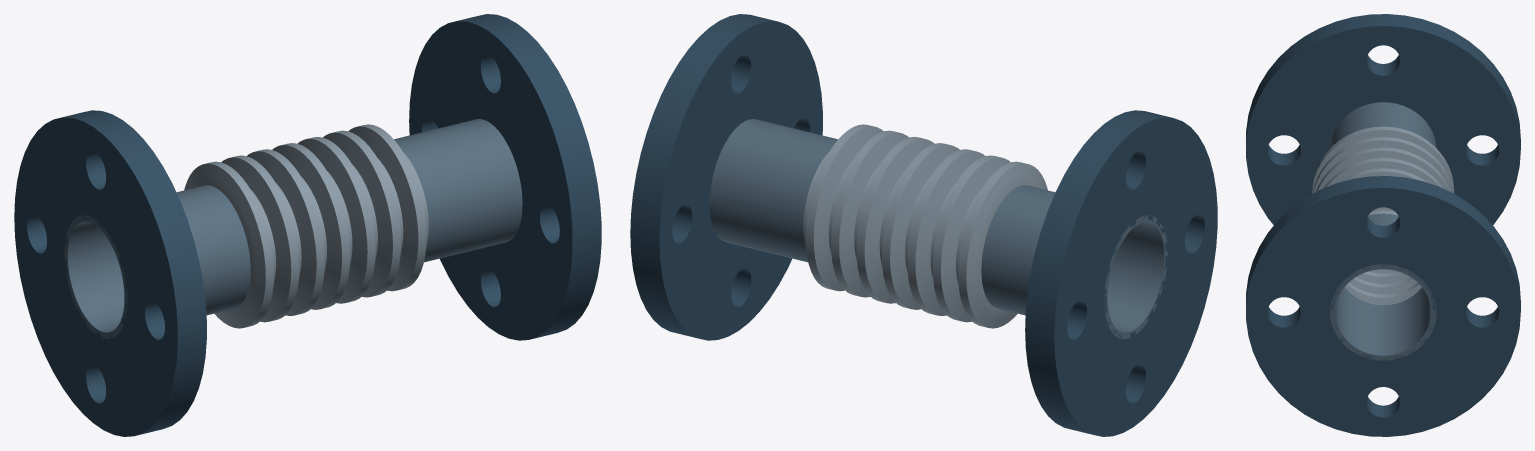
Rendered from silf-dn50-L220-D57-f.glb.
3 views of the same model, side by side, from view 1: azimuth 30°, elevation 25°; view 2: azimuth 150°, elevation 25°; view 3: azimuth 270°, elevation 25° (orthographic). The views are drawn at different scales.
Parts seen in each view (by area): view 1: homut_flanec_1, homut_flanec_2, prokladka_silfon_1, patrubok_2, patrubok_1; view 2: homut_flanec_1, homut_flanec_2, prokladka_silfon_1, patrubok_2, patrubok_1; view 3: homut_flanec_2, homut_flanec_1, prokladka_silfon_1, patrubok_2, patrubok_1.
Boxes of the visible parts, bbox=[...] form: homut_flanec_1: bbox=[14, 110, 206, 436]; homut_flanec_2: bbox=[409, 14, 601, 340]; prokladka_silfon_1: bbox=[184, 124, 428, 328]; patrubok_2: bbox=[394, 119, 522, 262]; patrubok_1: bbox=[64, 185, 250, 338]; homut_flanec_1: bbox=[1025, 110, 1217, 436]; homut_flanec_2: bbox=[630, 14, 822, 340]; prokladka_silfon_1: bbox=[803, 124, 1047, 328]; patrubok_2: bbox=[709, 119, 837, 262]; patrubok_1: bbox=[981, 185, 1167, 338]; homut_flanec_2: bbox=[1246, 176, 1520, 436]; homut_flanec_1: bbox=[1246, 14, 1520, 224]; prokladka_silfon_1: bbox=[1312, 126, 1454, 305]; patrubok_2: bbox=[1330, 213, 1436, 360]; patrubok_1: bbox=[1330, 102, 1436, 147].
Bounding box in the file's own units: 220 × 147 × 147.
